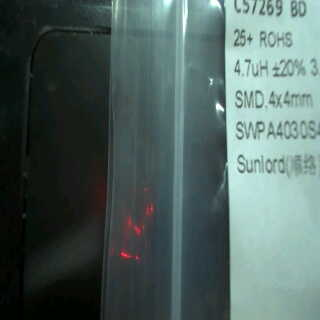4.7uH: (231, 55, 272, 85)
